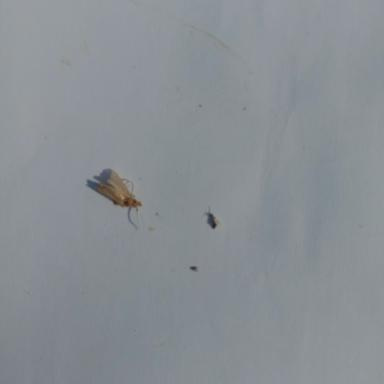pbw: (90, 169, 145, 231)
